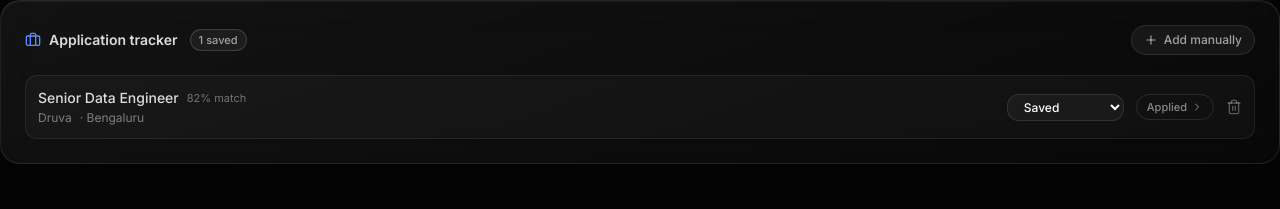
Scenario: ApplicationTracker › ROLLS BACK an optimistic status change when the server rejects it
Expected: the text "Senior Data Engineer" is shown, [38,88,179,108]
Select "Offer" in the dropdown at (1065, 107), box [1007,94,1124,120]
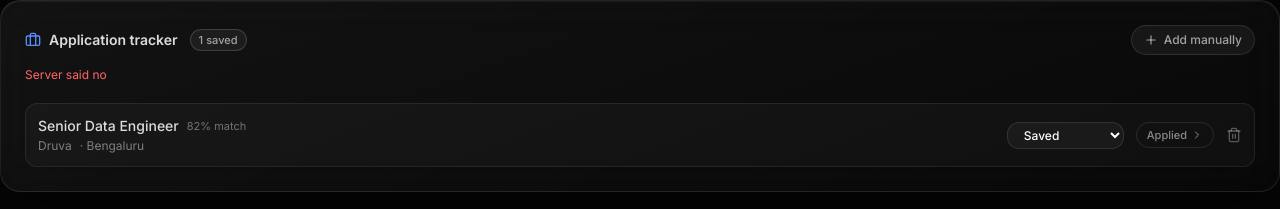
Now the text "Server said no" is shown, box [25,67,107,82]
